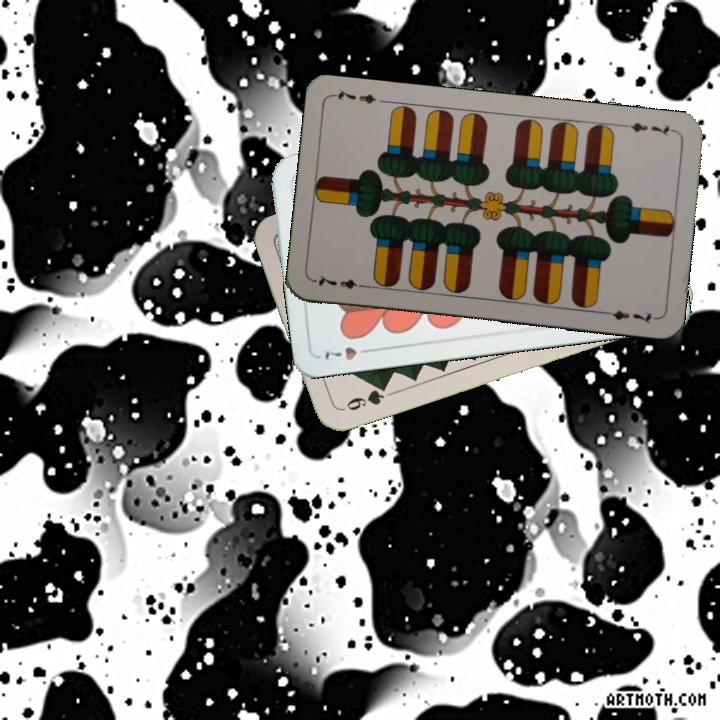E7: (311, 271, 370, 292), (619, 118, 678, 138)
G9: (336, 380, 391, 414)
H7: (320, 342, 377, 363)
